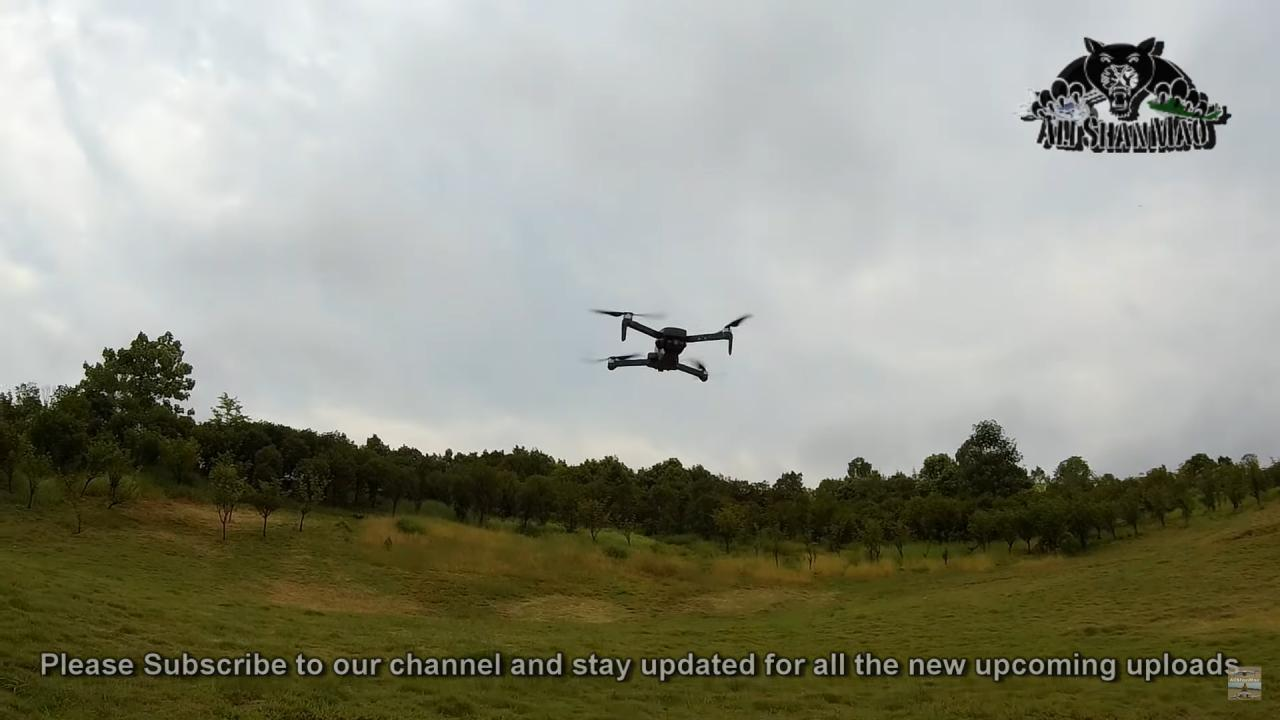Drone: (570, 293, 760, 401)
